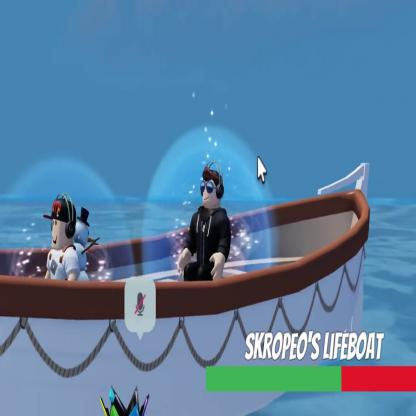Roblox-Avatar: (179, 161, 232, 282), (44, 194, 81, 282)
